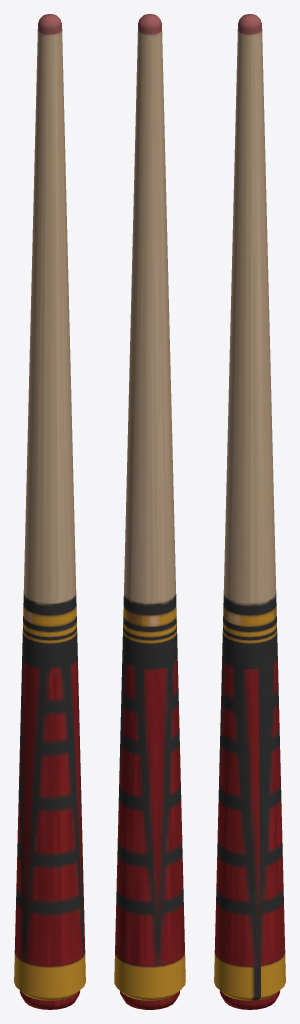
The model's file is poolstick.fbx.
3 renders of one model, left to right at view 1: azimuth 90°, elevation 25°; view 2: azimuth 150°, elevation 25°; view 3: azimuth 270°, elevation 25°, orthographic.
Parts seen in each view (by area): view 1: poolstick; view 2: poolstick; view 3: poolstick.
Part boxes in pixels (bbox=[...]): poolstick: bbox=[14, 14, 85, 1009]; poolstick: bbox=[114, 14, 185, 1009]; poolstick: bbox=[214, 14, 285, 1009].
Size of the model in its own units: 6.08 by 91.97 by 6.08.
